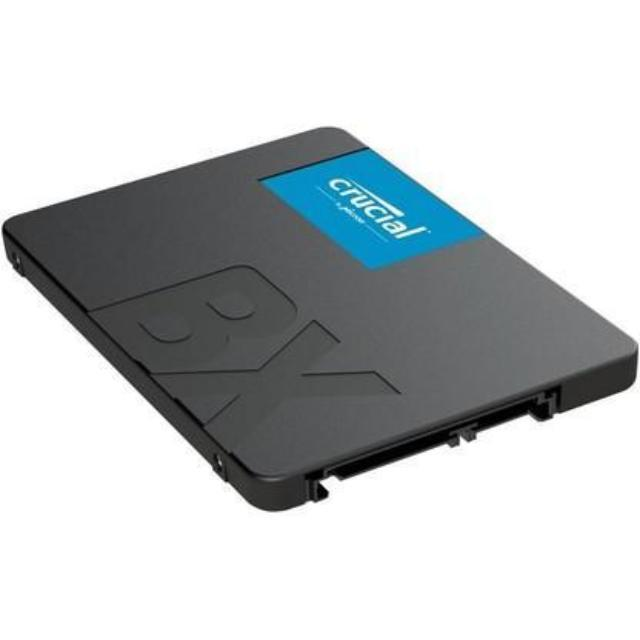DISK: (0, 112, 640, 518)
